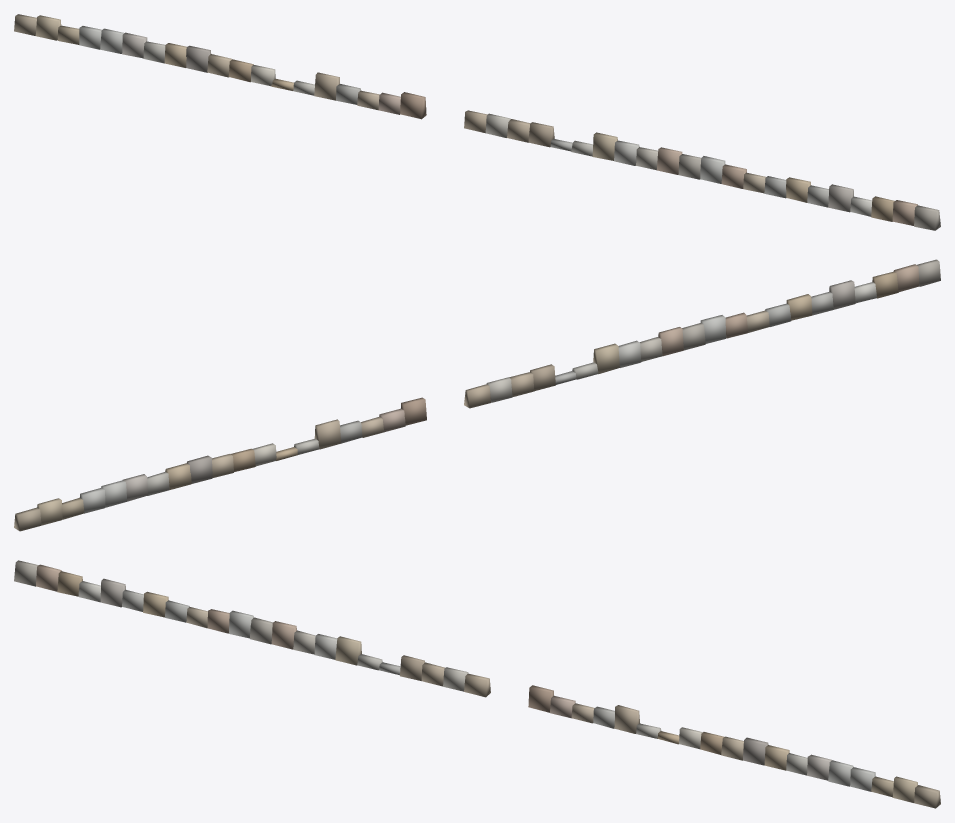
File: farm_6_2_far.glb
3 views of the same model, one above another, from view 1: azimuth 90°, elevation 25°; view 2: azimuth 150°, elevation 25°; view 3: azimuth 270°, elevation 25° (orthographic). The views are drawn at different scales.
Visible parts, largest first — view 1: geometry_0; view 2: geometry_0; view 3: geometry_0.
Part boxes in pixels (left/top/right/bottom): geometry_0: left=14, top=14, right=940, bottom=230; geometry_0: left=14, top=259, right=940, bottom=531; geometry_0: left=14, top=560, right=940, bottom=808.
Bounding box in the file's own units: 33.33 × 2.39 × 60.08.
